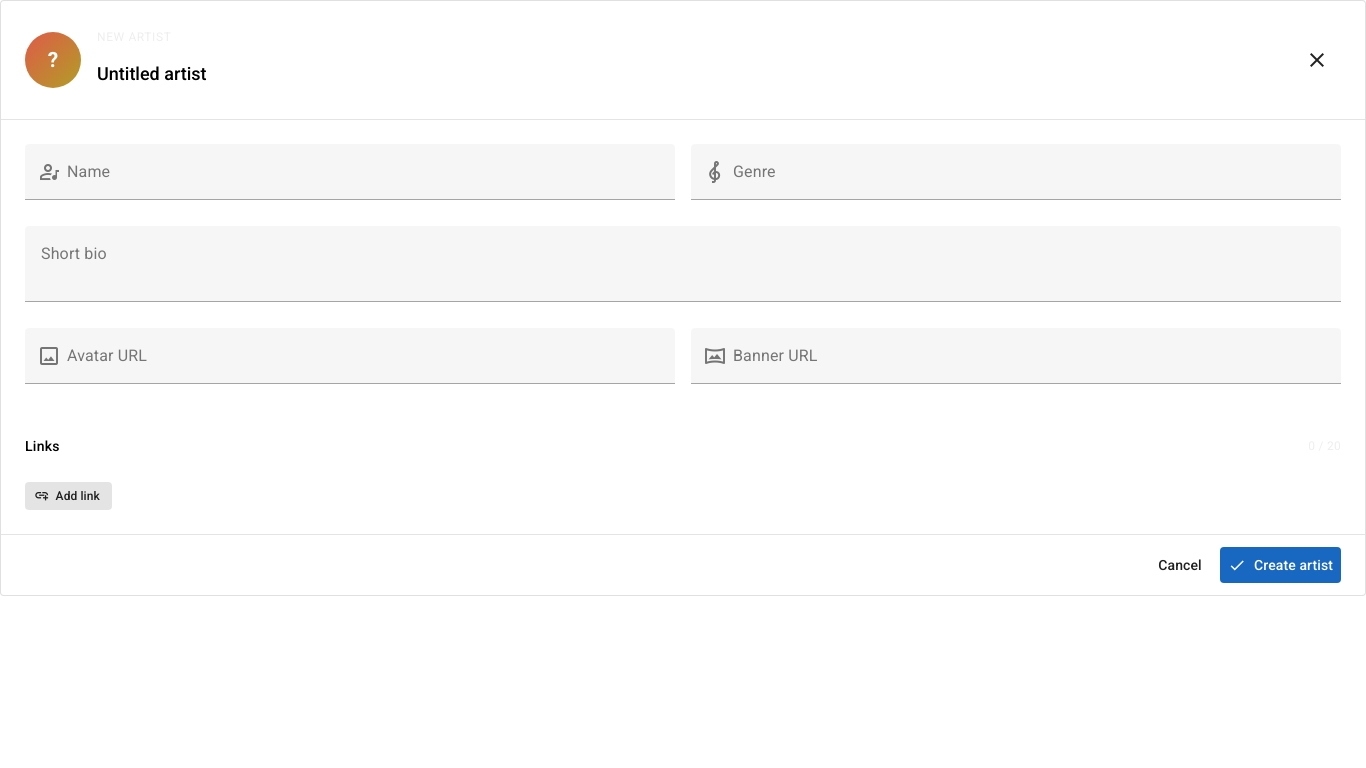
Scenario: ArtistCreatePanel › links › rejects an invalid link URL
Type "Nova" into the field labelled "Name".
click(368, 172); type("Nova")  # box [61,144,675,200]
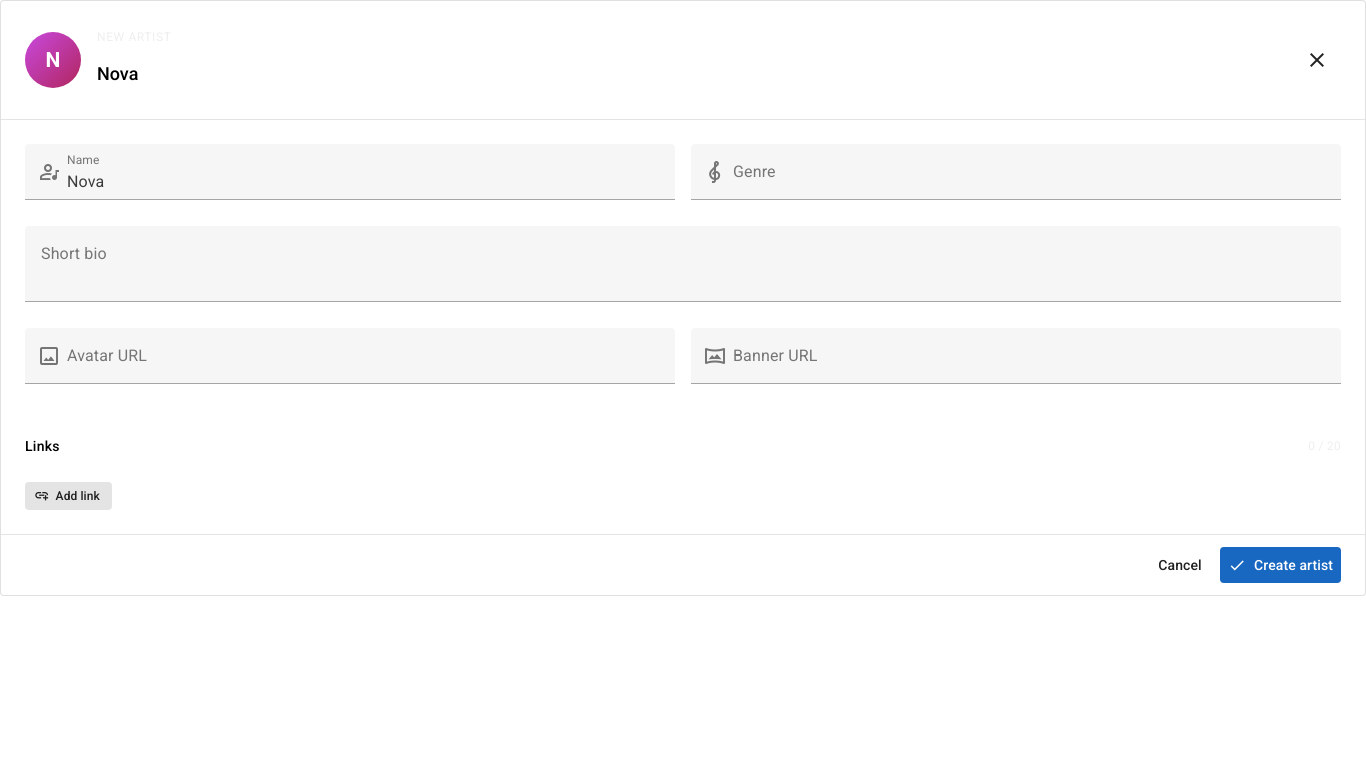
Click the button "Add link".
click(68, 496)  # box [25,482,112,510]
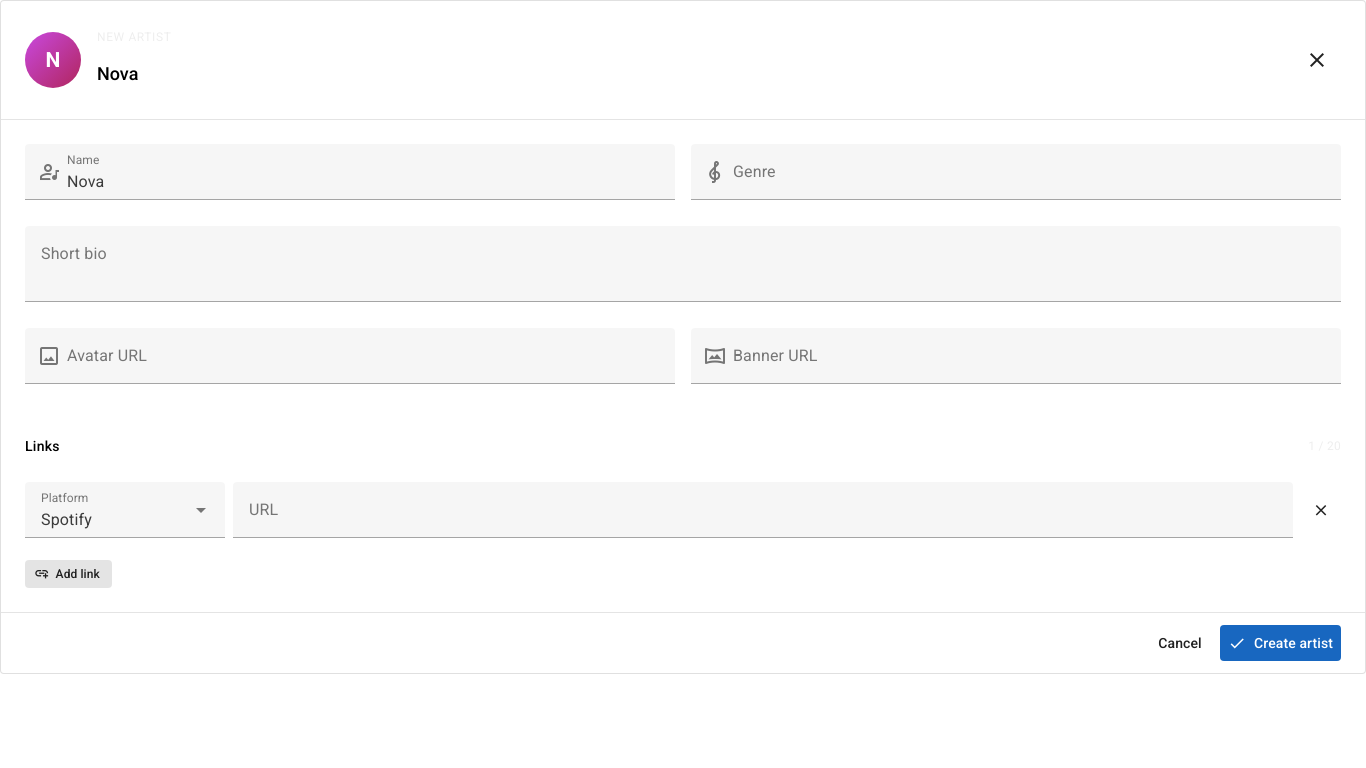
Type "spotify artist page" into the field labelled "URL".
click(763, 510); type("spotify artist page")  # box [233,482,1293,538]
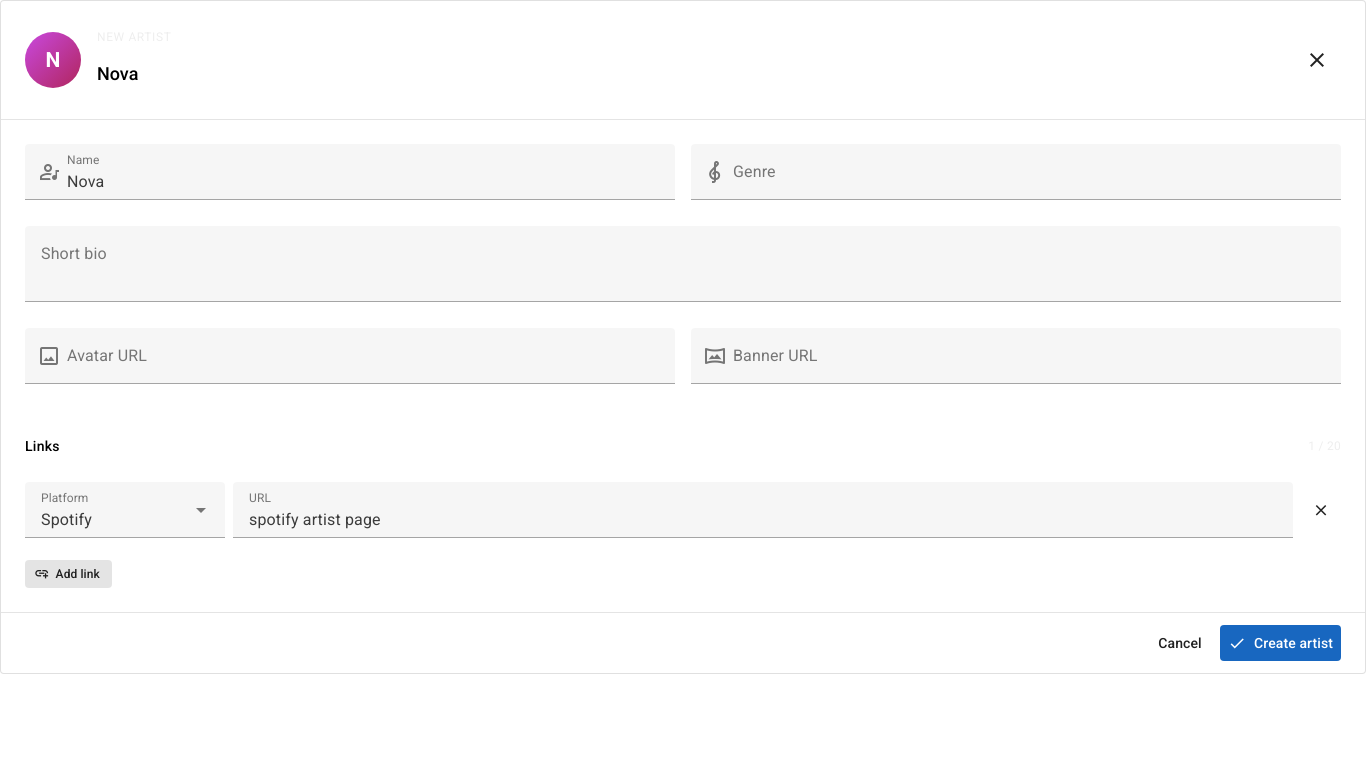
Submit the form
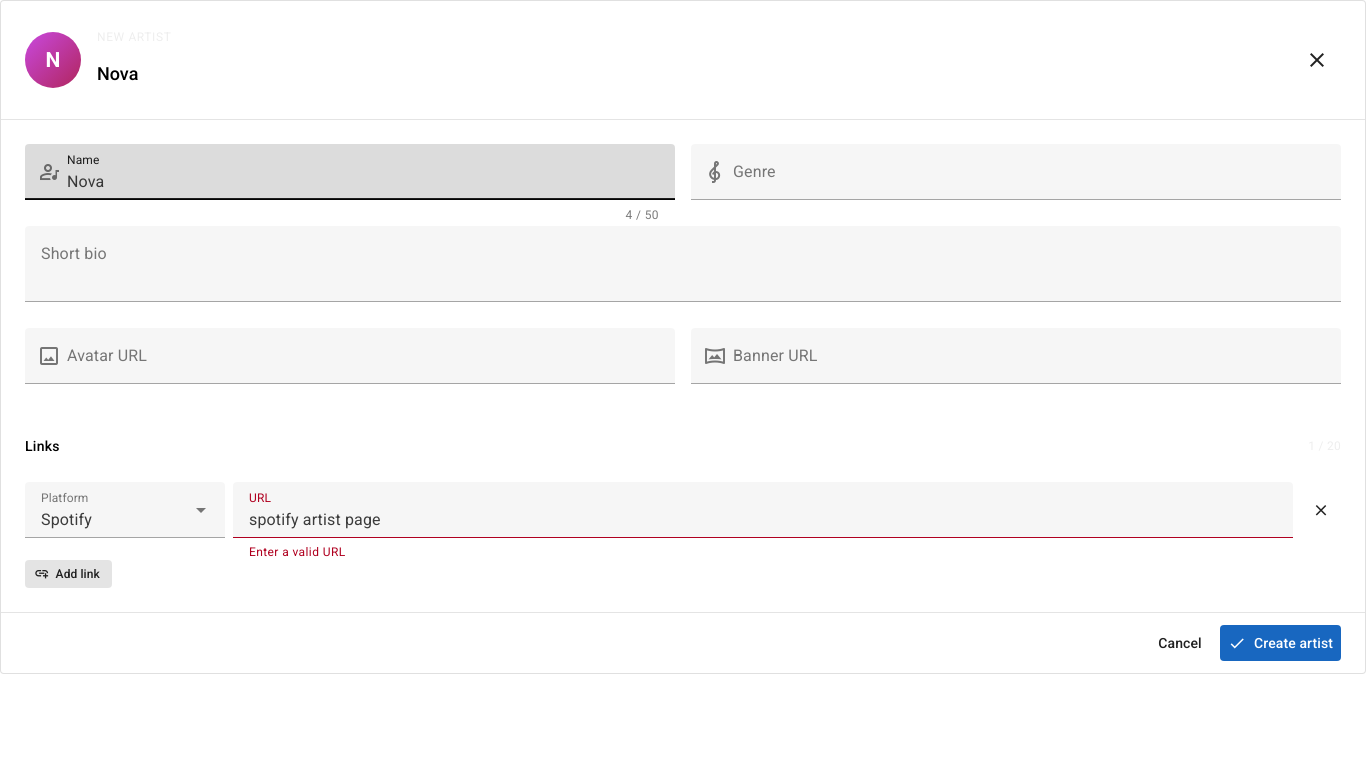
Result: the text "Enter a valid URL" is shown at [249,545,346,559]
